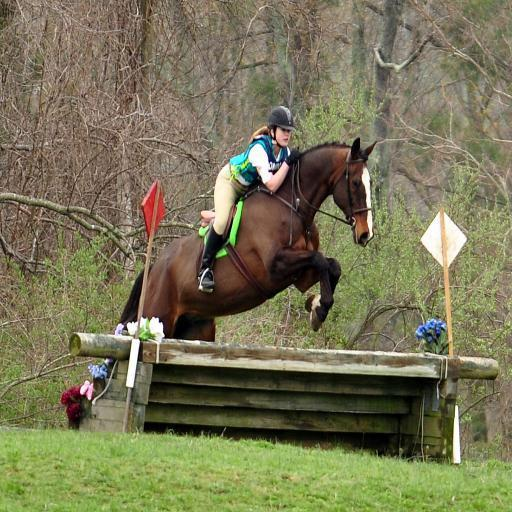horse: (118, 135, 378, 331)
